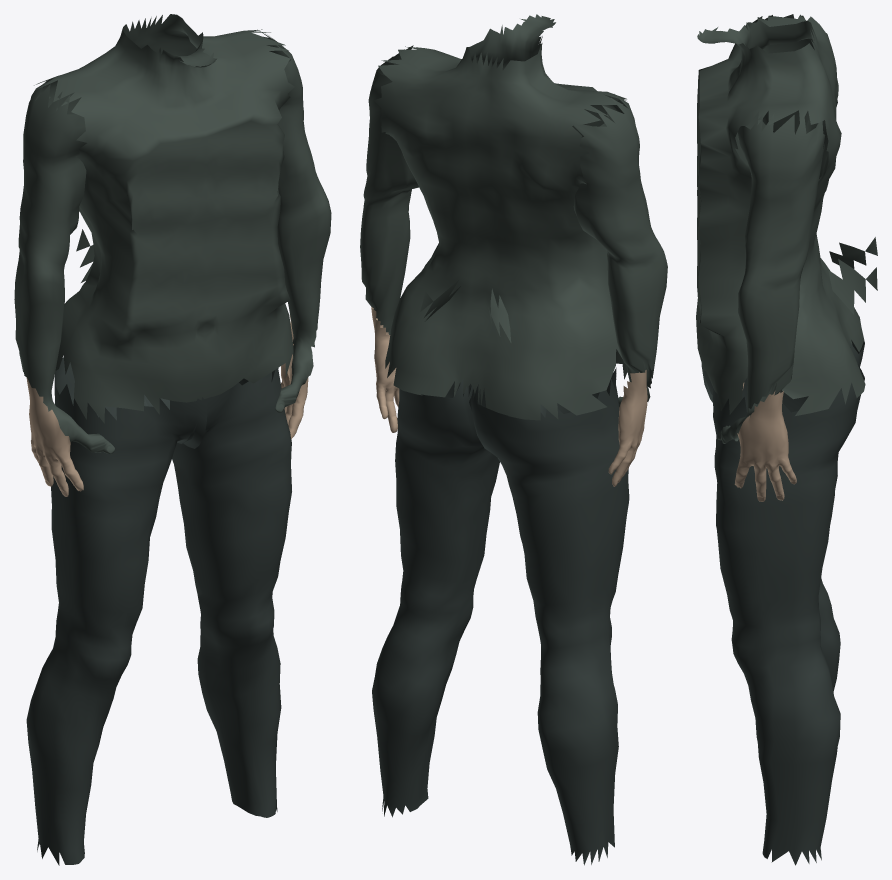
Rendered from engineer-body.glb.
3 renders of one model, left to right at view 1: azimuth 30°, elevation 25°; view 2: azimuth 150°, elevation 25°; view 3: azimuth 270°, elevation 25°, orthographic. The views are drawn at different scales.
Parts seen in each view (by area): view 1: torso-coat, leg--1-trousers, leg-1-trousers, arm--1-coat, arm-1-coat, arm--1-skin, arm-1-skin; view 2: torso-coat, leg--1-trousers, leg-1-trousers, arm--1-coat, arm-1-coat, arm--1-skin, arm-1-skin; view 3: leg-1-trousers, torso-coat, arm-1-coat, arm-1-skin, arm--1-coat, leg--1-trousers.
Part boxes in pixels (left/top/right/bottom): torso-coat: left=34, top=14, right=294, bottom=423; leg--1-trousers: left=26, top=357, right=207, bottom=865; leg-1-trousers: left=144, top=368, right=291, bottom=817; arm--1-coat: left=14, top=78, right=114, bottom=454; arm-1-coat: left=76, top=29, right=331, bottom=412; arm--1-skin: left=26, top=377, right=83, bottom=496; arm-1-skin: left=281, top=315, right=308, bottom=439; torso-coat: left=374, top=14, right=627, bottom=420; leg--1-trousers: left=469, top=367, right=629, bottom=865; leg-1-trousers: left=372, top=379, right=499, bottom=817; arm--1-coat: left=420, top=94, right=667, bottom=406; arm-1-coat: left=360, top=45, right=511, bottom=342; arm--1-skin: left=608, top=370, right=647, bottom=486; arm-1-skin: left=371, top=307, right=399, bottom=432; leg-1-trousers: left=703, top=364, right=864, bottom=865; torso-coat: left=696, top=14, right=865, bottom=415; arm-1-coat: left=717, top=113, right=877, bottom=443; arm-1-skin: left=734, top=391, right=796, bottom=501; arm--1-coat: left=753, top=14, right=877, bottom=314; leg--1-trousers: left=701, top=340, right=864, bottom=691.
Bounding box in the file's own units: 0.5768 × 1.48 × 0.3115.
